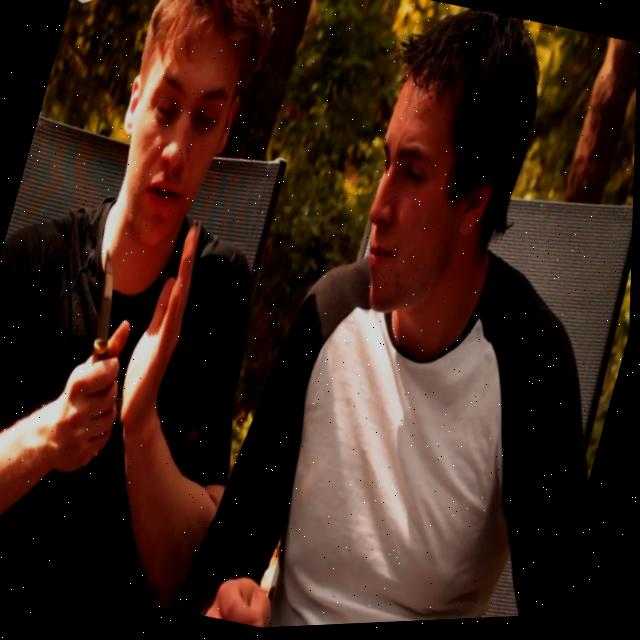knife: (78, 248, 135, 364)
